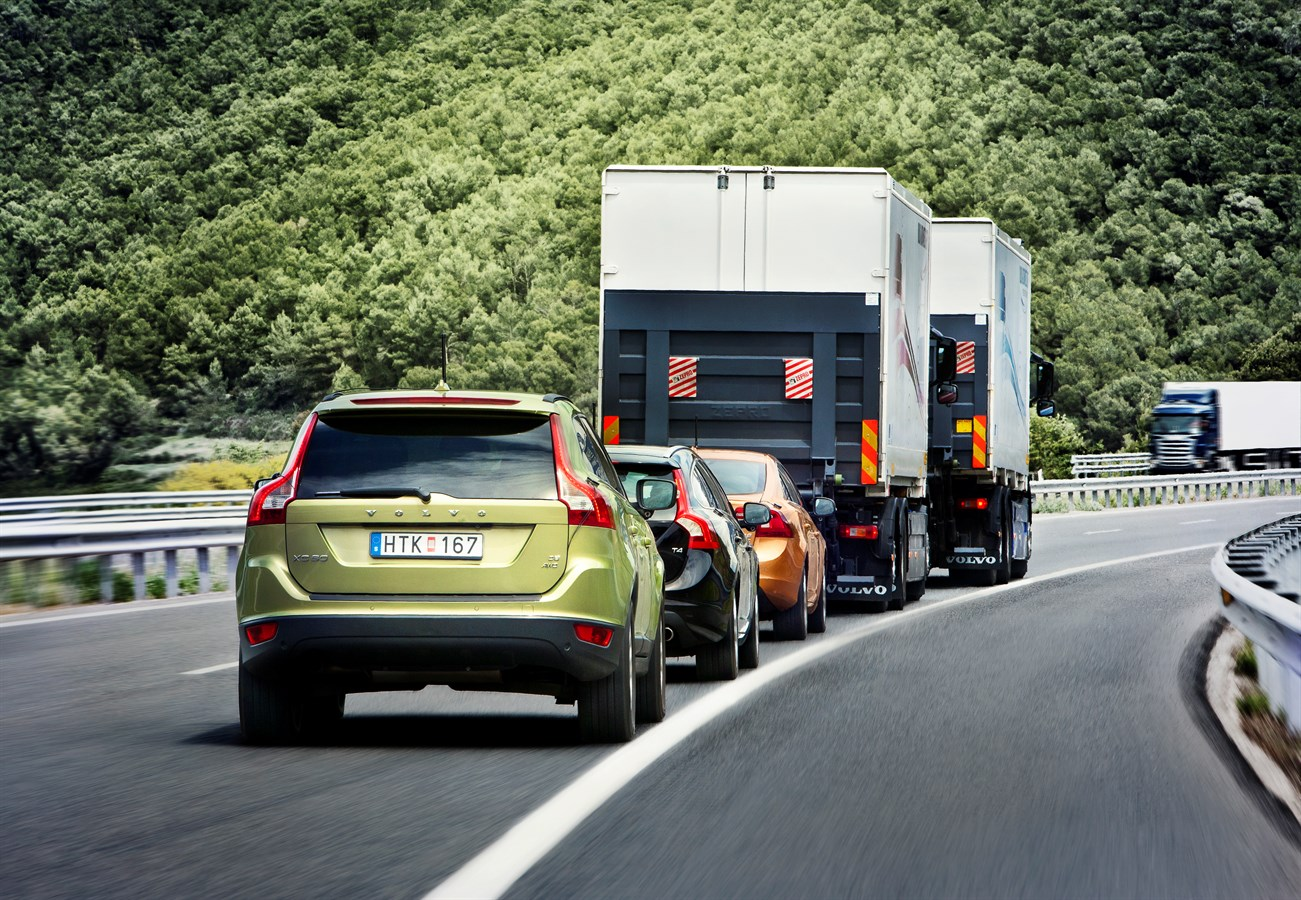other: (228, 382, 674, 766), (600, 441, 771, 685), (716, 449, 834, 624)
